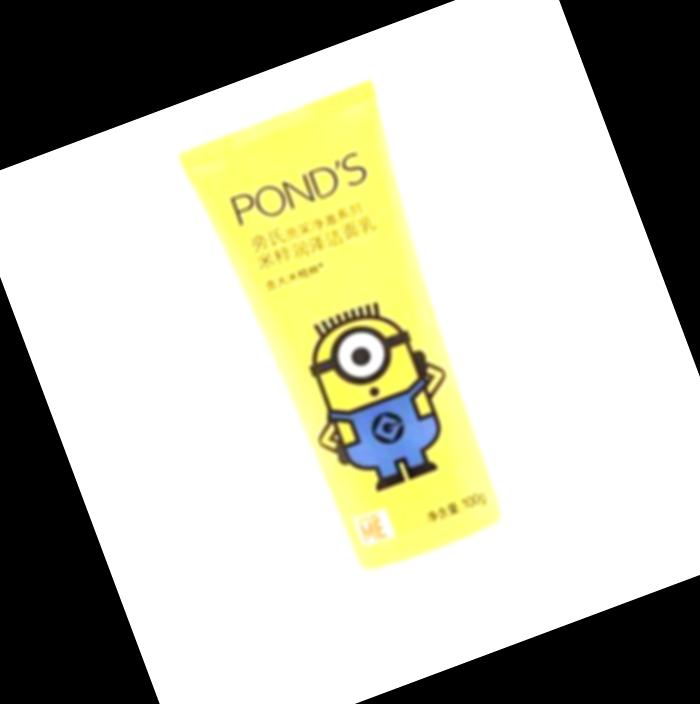cosmetic: (171, 78, 570, 672)
